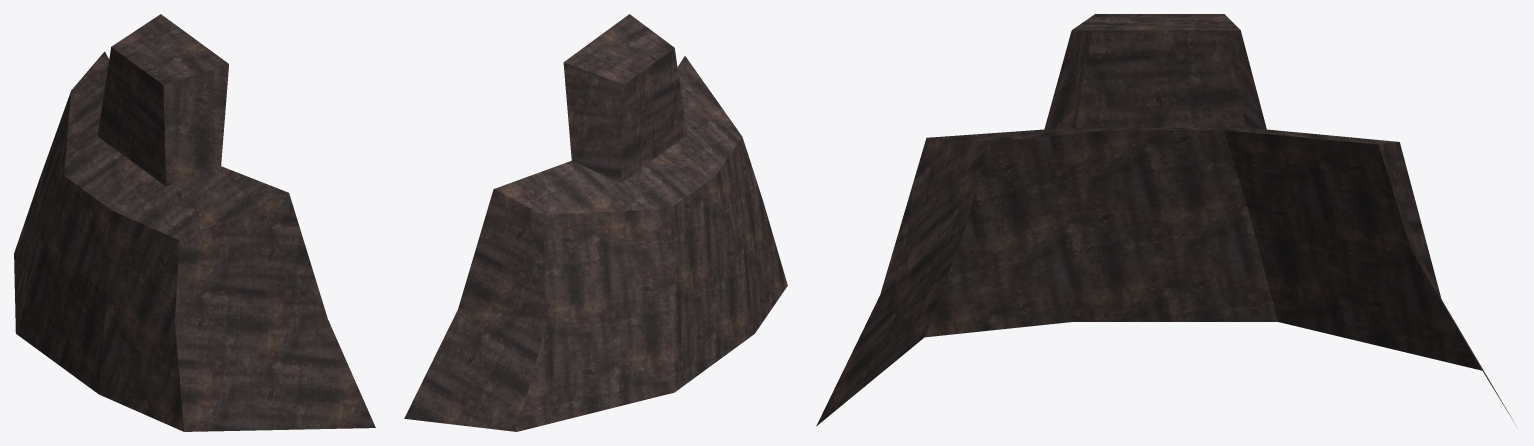
The model's file is Rock_01.fbx.
The picture shows the model from 3 angles, left to right: view 1: azimuth 30°, elevation 25°; view 2: azimuth 150°, elevation 25°; view 3: azimuth 270°, elevation 25°; orthographic projection. The views are drawn at different scales.
Visible parts, largest first — view 1: Box002; view 2: Box002; view 3: Box002.
Boxes of the visible parts, box(x1,y1,x2,y2) form: Box002: box(14, 14, 375, 431); Box002: box(404, 14, 787, 431); Box002: box(816, 14, 1516, 426).
Bounding box in the file's own units: 1551 × 4194 × 2434.
